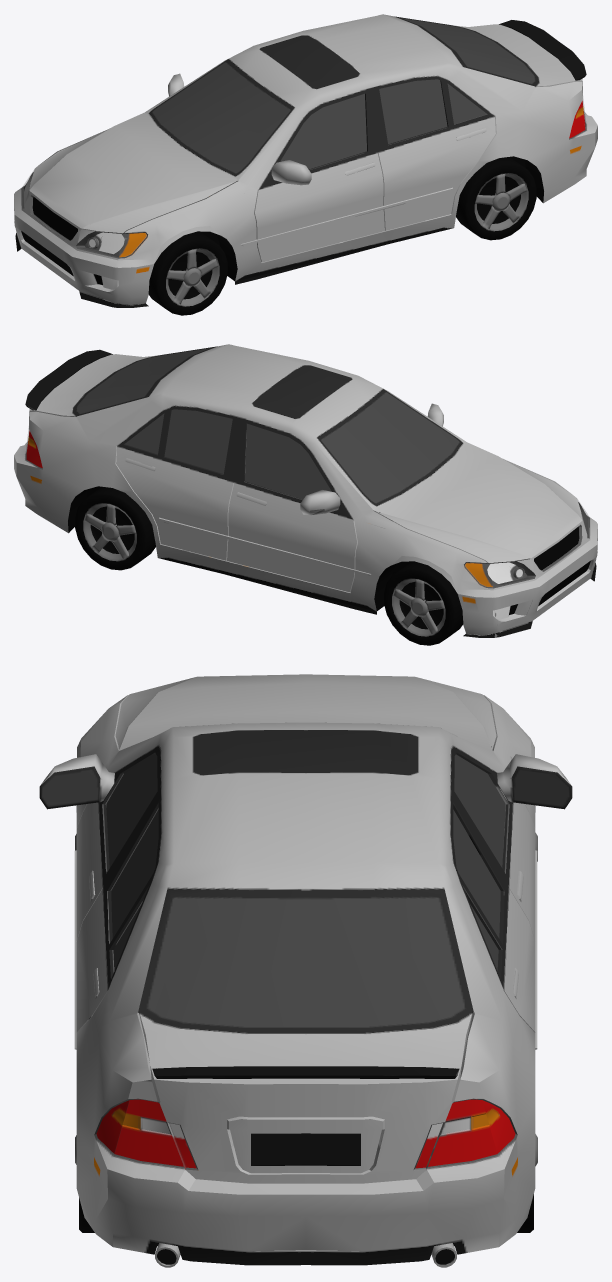
Rendered from altz.fbx.
3 views of the same model, one above another, from view 1: azimuth 30°, elevation 25°; view 2: azimuth 150°, elevation 25°; view 3: azimuth 270°, elevation 25° (orthographic). The views are drawn at different scales.
Visible parts, largest first — view 1: altz.body, altz.ban.004, altz.ban.001; view 2: altz.body, altz.ban.003, altz.ban.002; view 3: altz.body.
Part boxes in pixels (x1,y1,x2,y2): altz.body: [14, 14, 597, 307]; altz.ban.004: [456, 157, 536, 240]; altz.ban.001: [148, 231, 227, 315]; altz.body: [14, 344, 597, 637]; altz.ban.003: [75, 487, 155, 570]; altz.ban.002: [384, 561, 463, 645]; altz.body: [39, 674, 572, 1267].
Bounding box in the file's own units: 441 × 140 × 195.
Materials: 5 (5 with a texture image).
